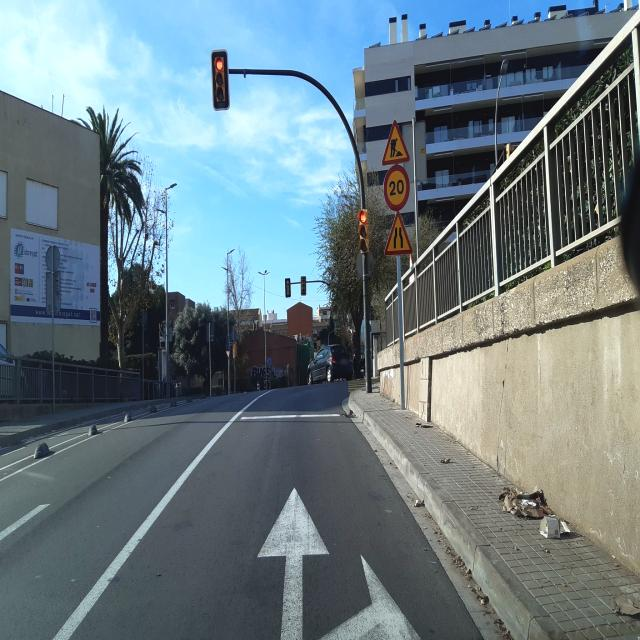car: (307, 344, 353, 384)
